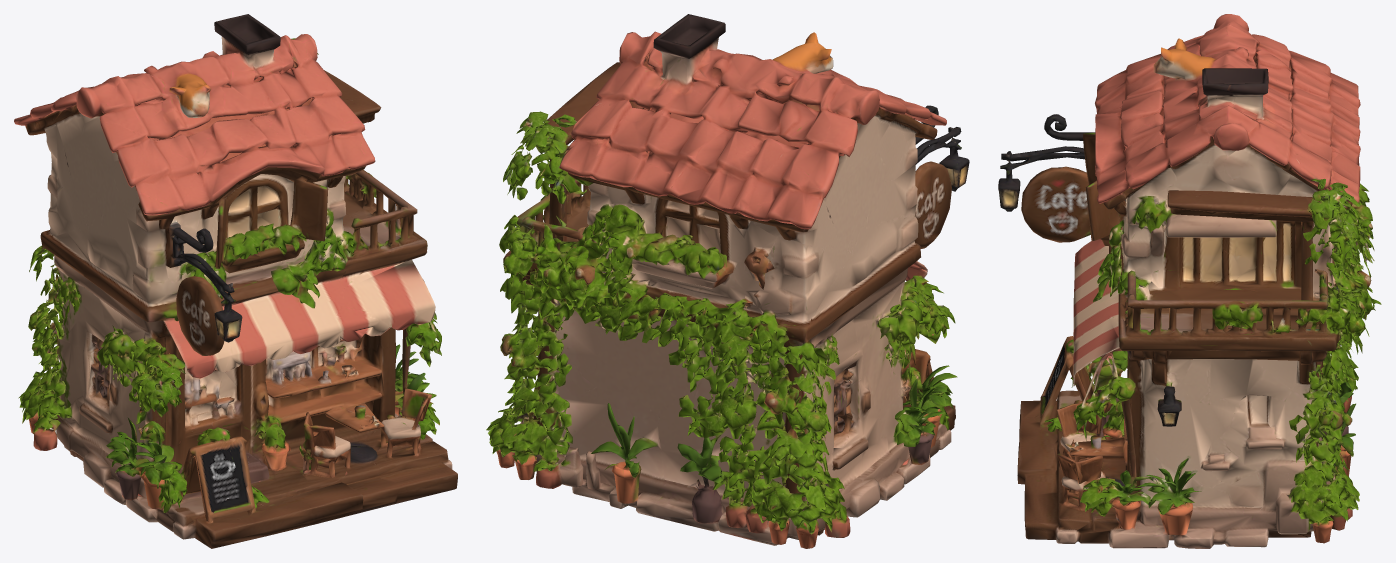
File: whiskerwood_cafe.glb
The picture shows the model from 3 angles, left to right: view 1: azimuth 30°, elevation 25°; view 2: azimuth 150°, elevation 25°; view 3: azimuth 270°, elevation 25°; orthographic projection. The views are drawn at different scales.
Parts seen in each view (by area): view 1: Meshy_AI_Whiskerwood_Café_1014055448_texture; view 2: Meshy_AI_Whiskerwood_Café_1014055448_texture; view 3: Meshy_AI_Whiskerwood_Café_1014055448_texture.
Boxes of the visible parts, x1,y1,x2,y2 form: Meshy_AI_Whiskerwood_Café_1014055448_texture: [14, 14, 457, 548]; Meshy_AI_Whiskerwood_Café_1014055448_texture: [486, 14, 969, 548]; Meshy_AI_Whiskerwood_Café_1014055448_texture: [998, 14, 1381, 548].
Bounding box in the file's own units: 1.57 × 1.9 × 1.6.
Materials: 1 (1 with a texture image).
